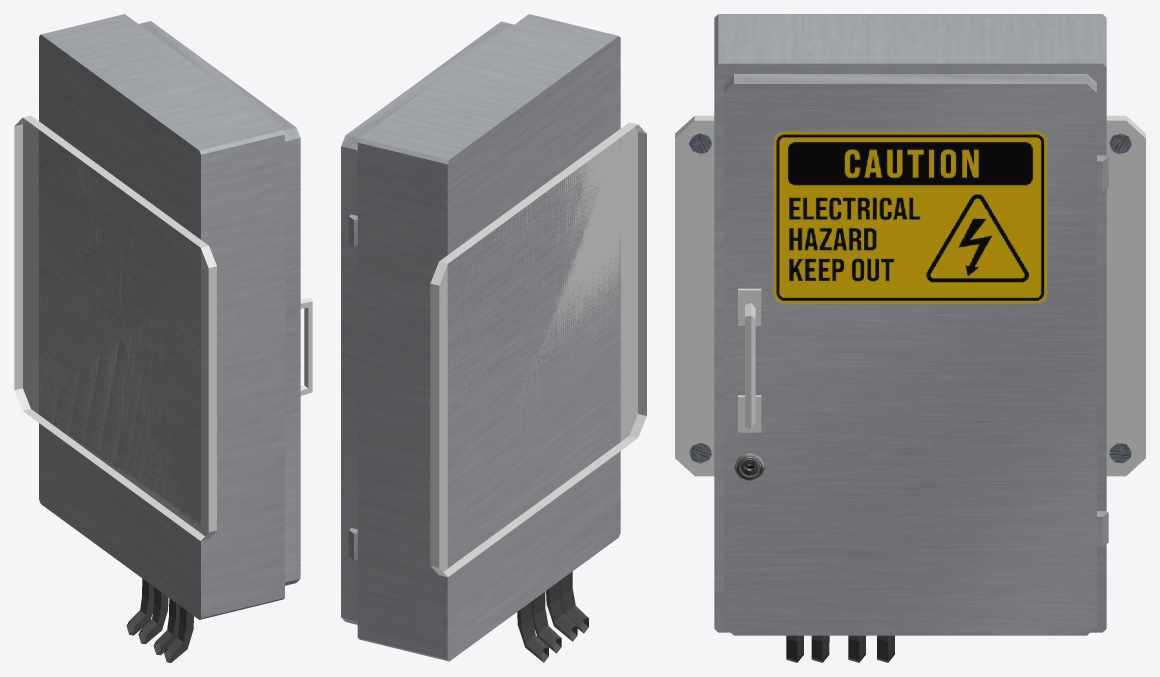
Rendered from ElectroShield.fbx.
The picture shows the model from 3 angles, left to right: view 1: azimuth 30°, elevation 25°; view 2: azimuth 150°, elevation 25°; view 3: azimuth 270°, elevation 25°; orthographic projection. The views are drawn at different scales.
Visible parts, largest first — view 1: Cube, Cube.002, Circle.003; view 2: Cube, Cube.002, Circle.003; view 3: Cube.002, Cube, Circle.003, Circle.002.
Part boxes in pixels (left/top/right/bottom): Cube: left=14, top=14, right=284, bottom=619; Cube.002: left=139, top=21, right=312, bottom=585; Circle.003: left=126, top=578, right=193, bottom=662; Cube: left=357, top=14, right=646, bottom=661; Cube.002: left=341, top=21, right=513, bottom=624; Circle.003: left=517, top=571, right=588, bottom=662; Cube.002: left=724, top=74, right=1108, bottom=635; Cube: left=675, top=14, right=1145, bottom=632; Circle.003: left=786, top=635, right=894, bottom=662; Circle.002: left=689, top=133, right=1131, bottom=463.
Bounding box in the file's own units: 95.51 × 365 × 240.
